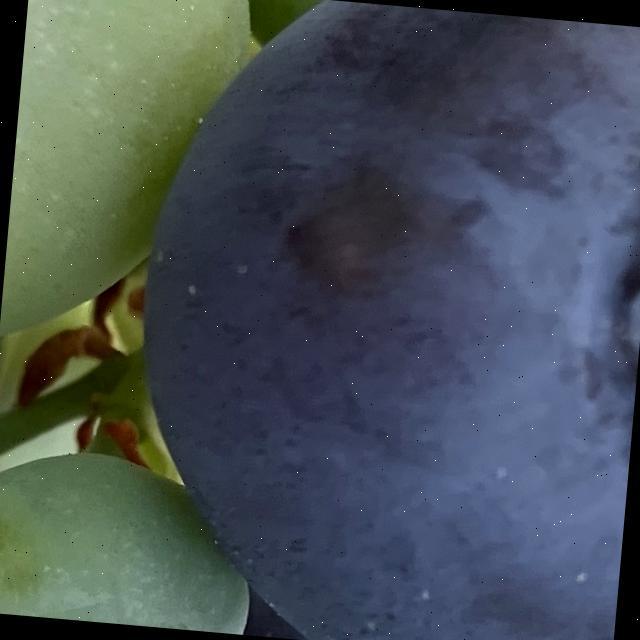Blueberries: (85, 0, 640, 640), (0, 0, 248, 371), (0, 431, 306, 638)
